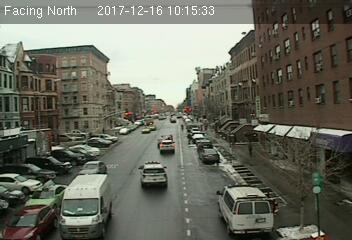car: (1, 201, 59, 240), (23, 178, 65, 209), (77, 161, 108, 176), (200, 149, 219, 162), (160, 140, 175, 152)
police: (215, 181, 273, 233), (137, 158, 169, 190)
truck: (56, 174, 112, 240)
